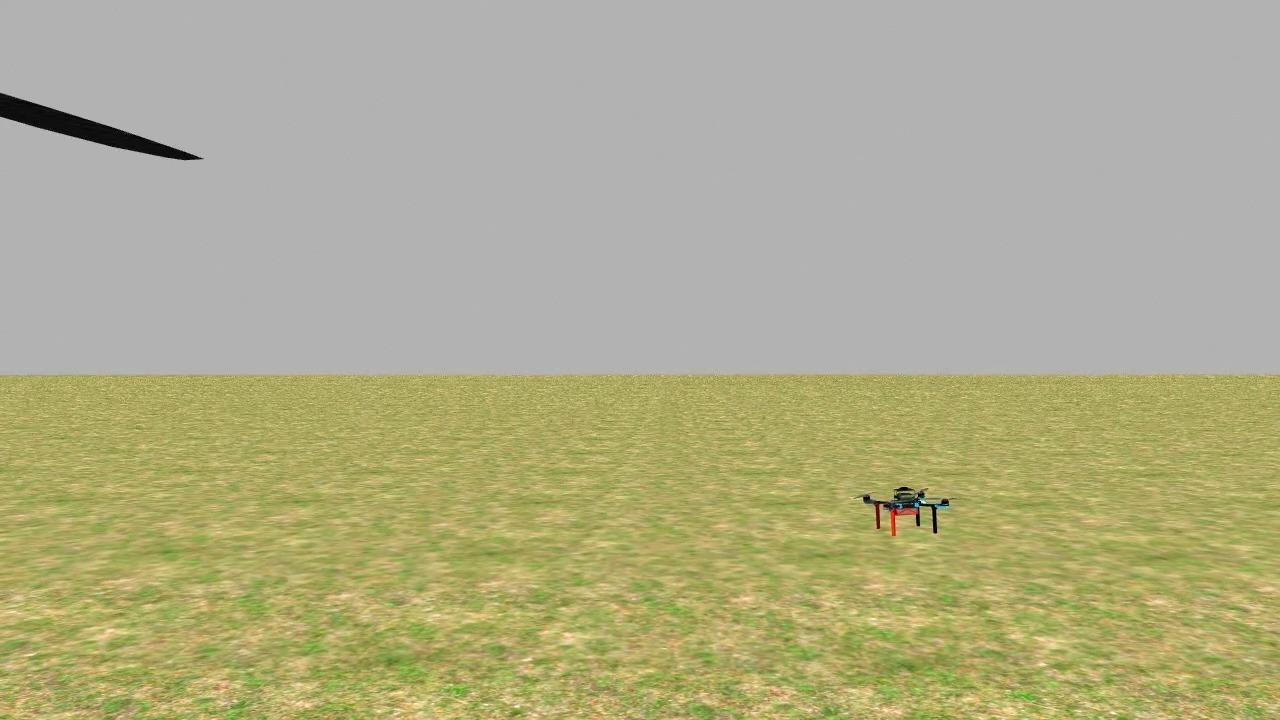UAV: (861, 476, 952, 544)
